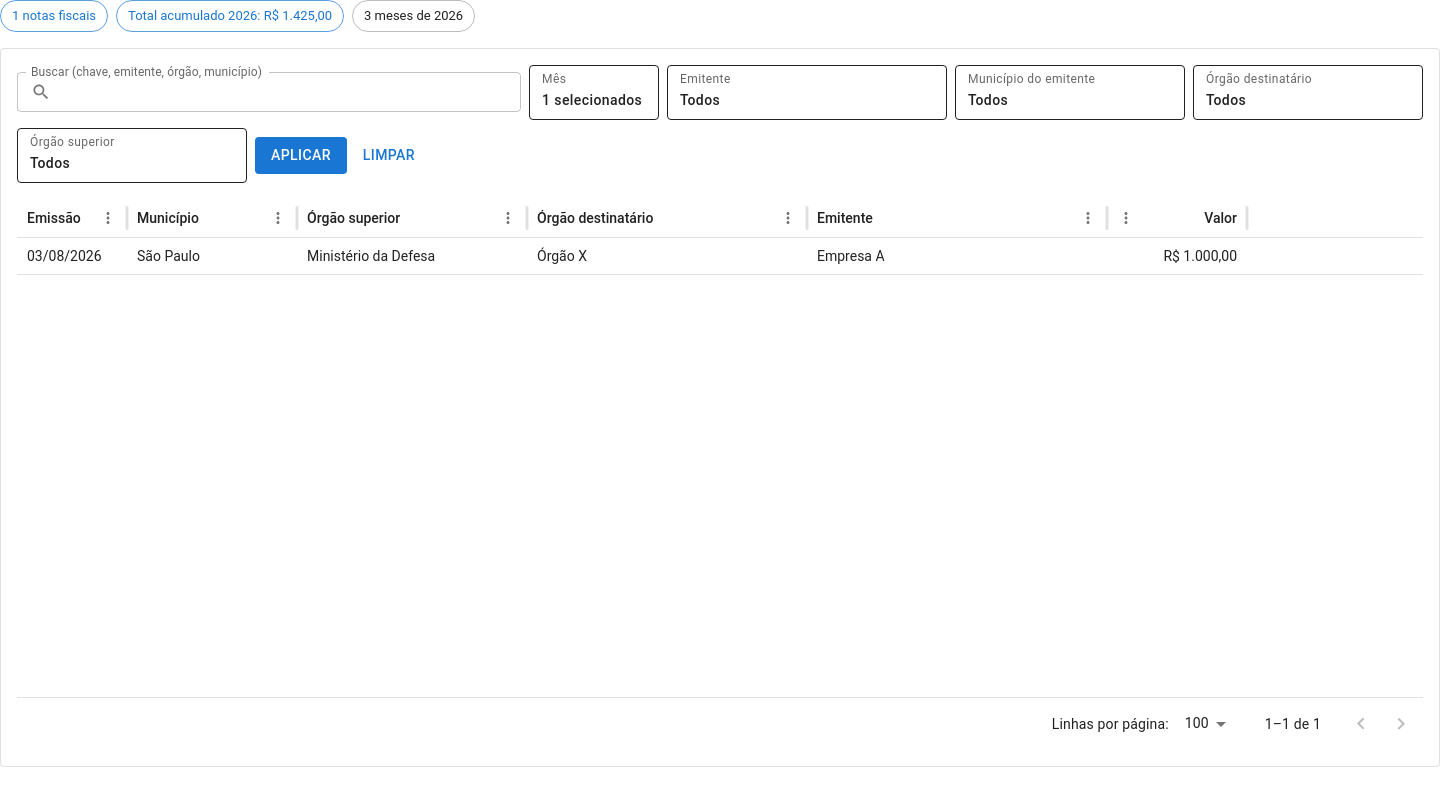
Scenario: TabelaNotas › zera a tabela quando a consulta falha
In the field labelled "Buscar (chave, emitente, órgão, município)": {"x": 290, "y": 92} [59,72,521,112], type "x"
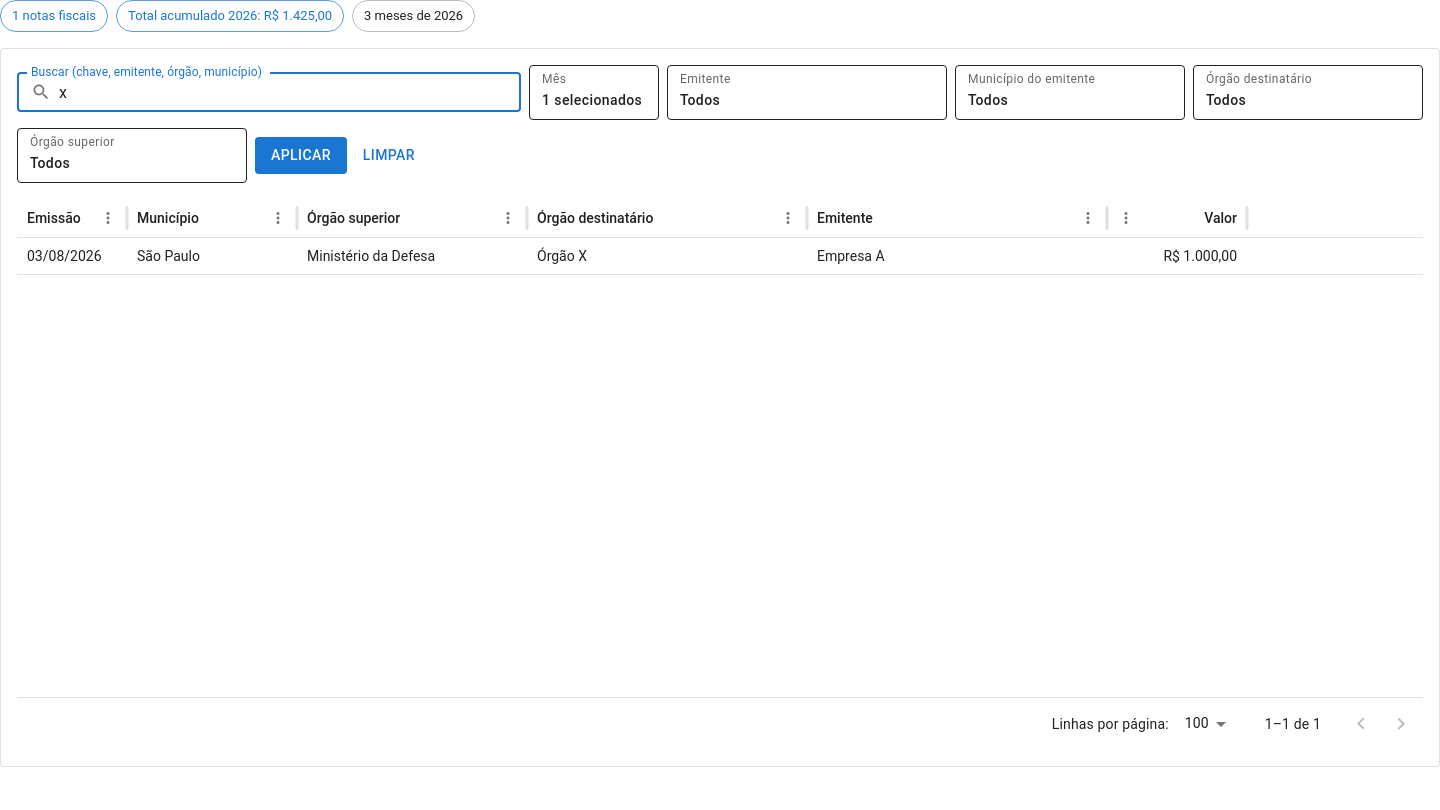
Click the button "Aplicar": {"x": 301, "y": 155} [255,137,347,174]
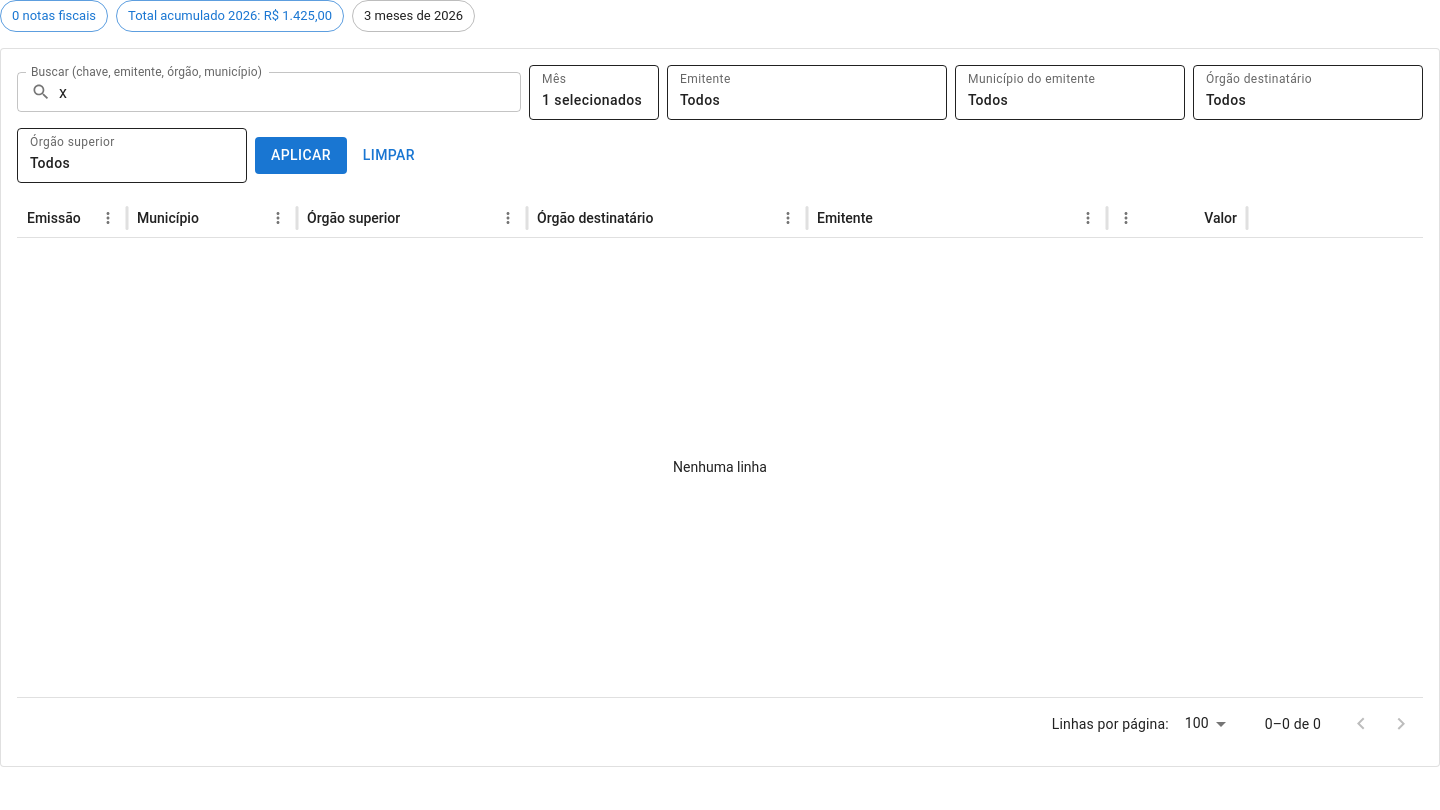
Expected: the text "0 notas fiscais" is shown, [12,8,96,23]
